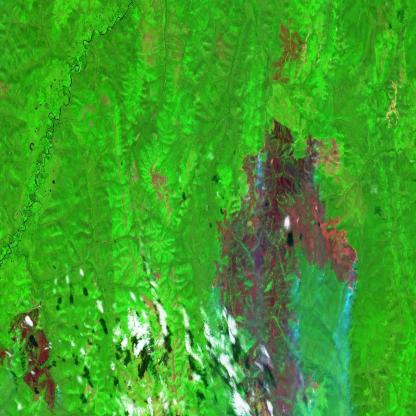fire: (204, 108, 365, 336), (303, 376, 323, 399), (50, 378, 63, 397)
